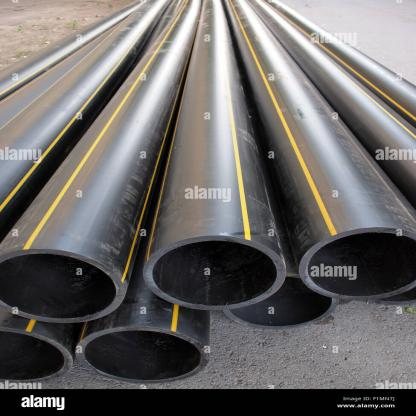PVC: (0, 0, 416, 383)
